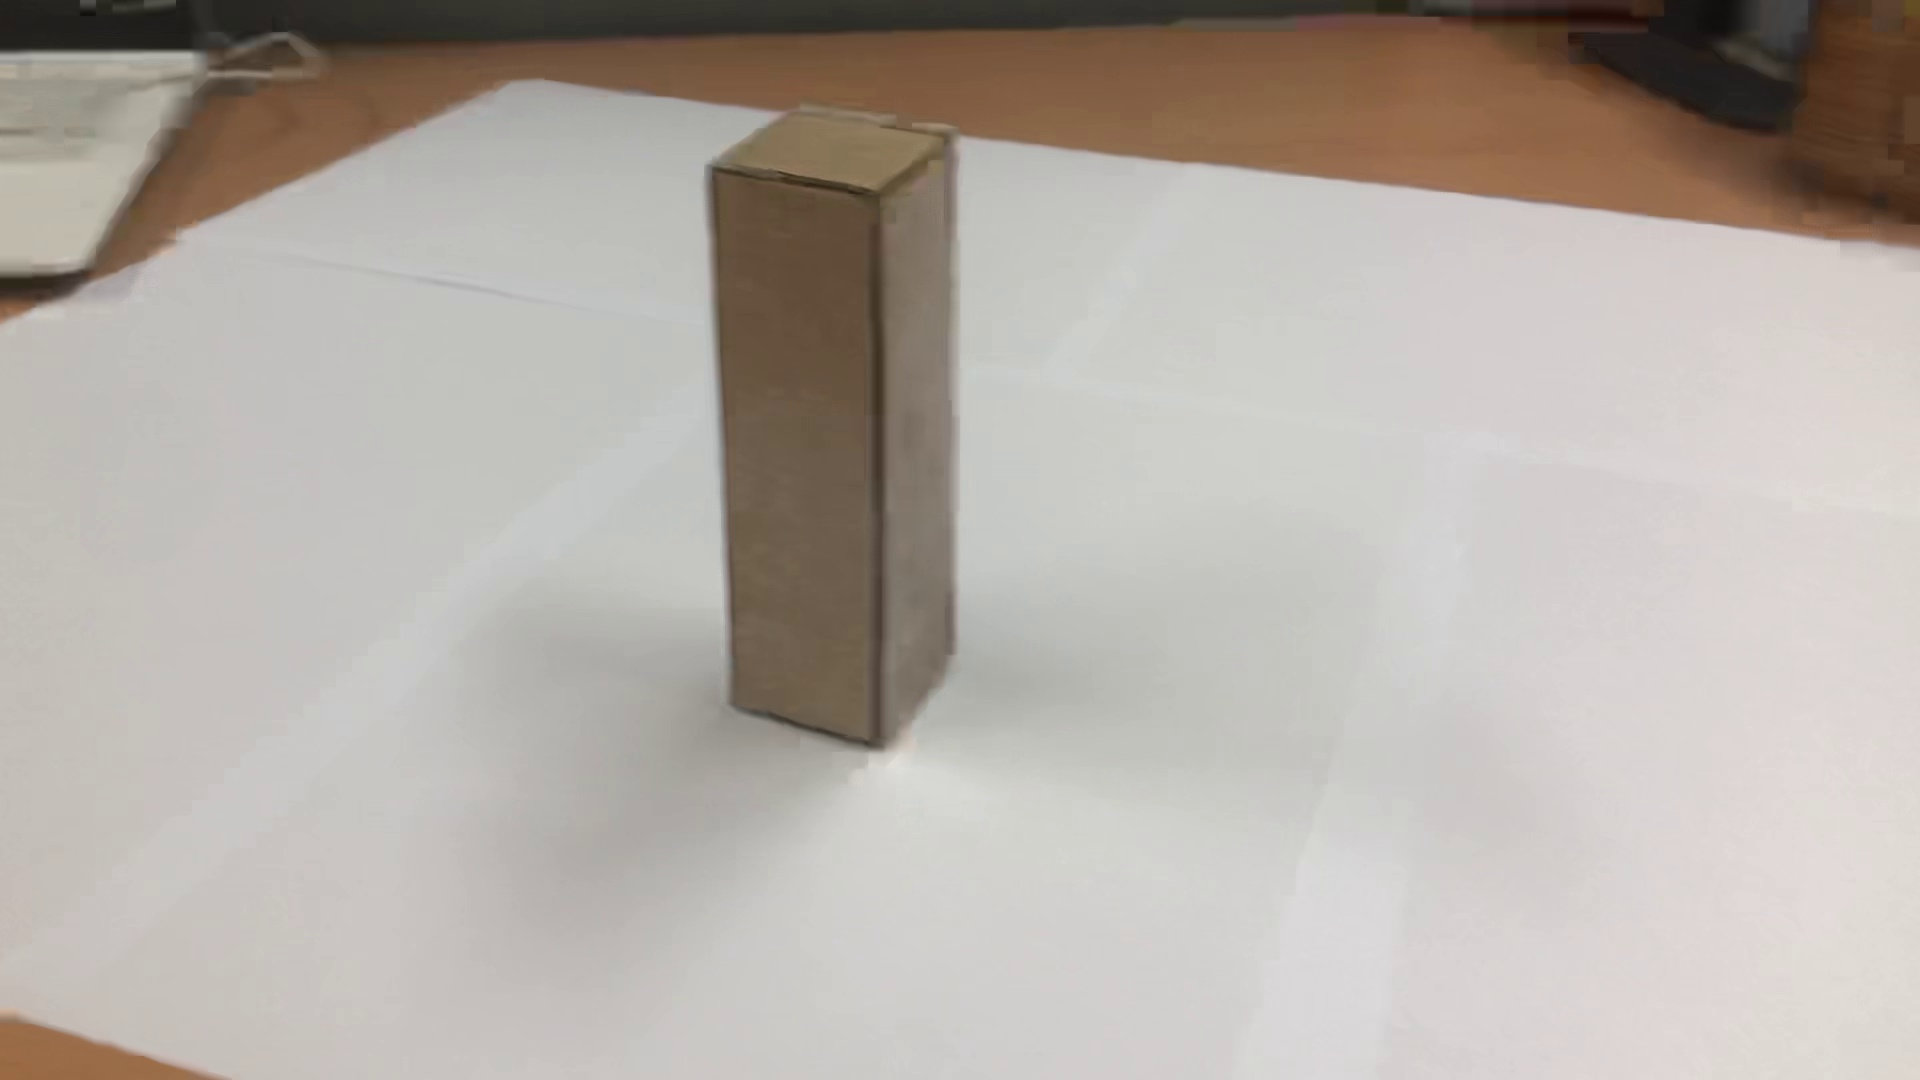box: (663, 94, 1009, 764)
